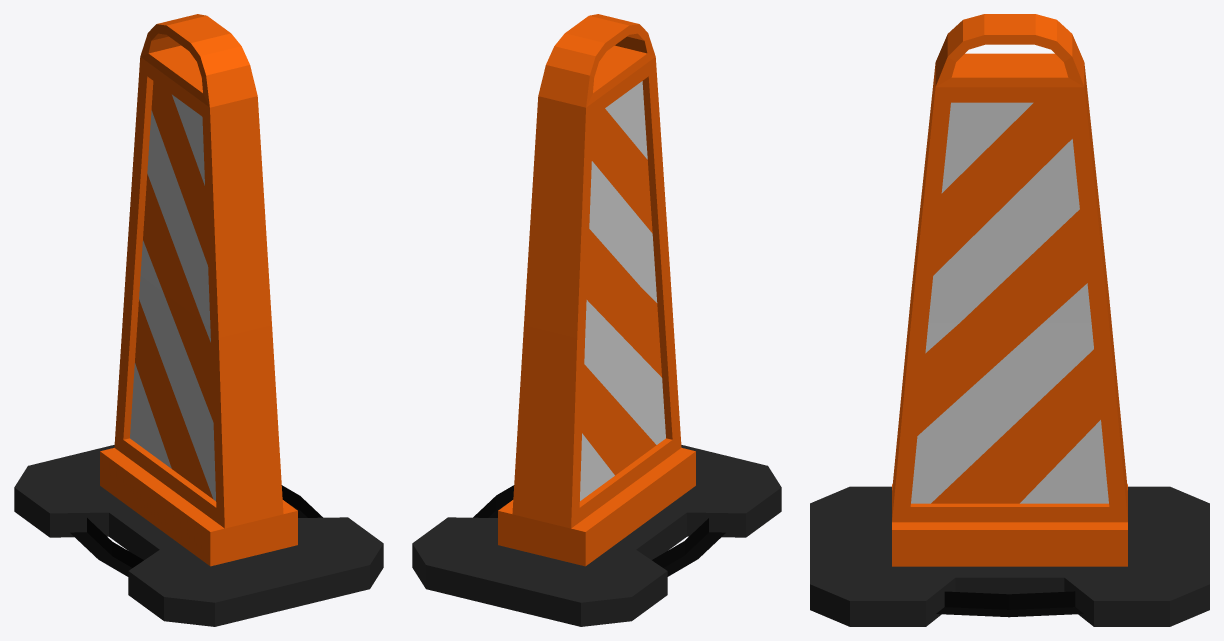
File: señalcono.fbx
3 renders of one model, left to right at view 1: azimuth 30°, elevation 25°; view 2: azimuth 150°, elevation 25°; view 3: azimuth 270°, elevation 25°, orthographic. The views are drawn at different scales.
Parts seen in each view (by area): view 1: D-3; view 2: D-3; view 3: D-3.
Boxes of the visible parts, <box> form: D-3: <box>14,14,383,626</box>; D-3: <box>412,14,781,626</box>; D-3: <box>810,14,1209,626</box>.
Size of the model in its own units: 29.74 by 66.03 by 43.87.
1 material, 1 textured.
